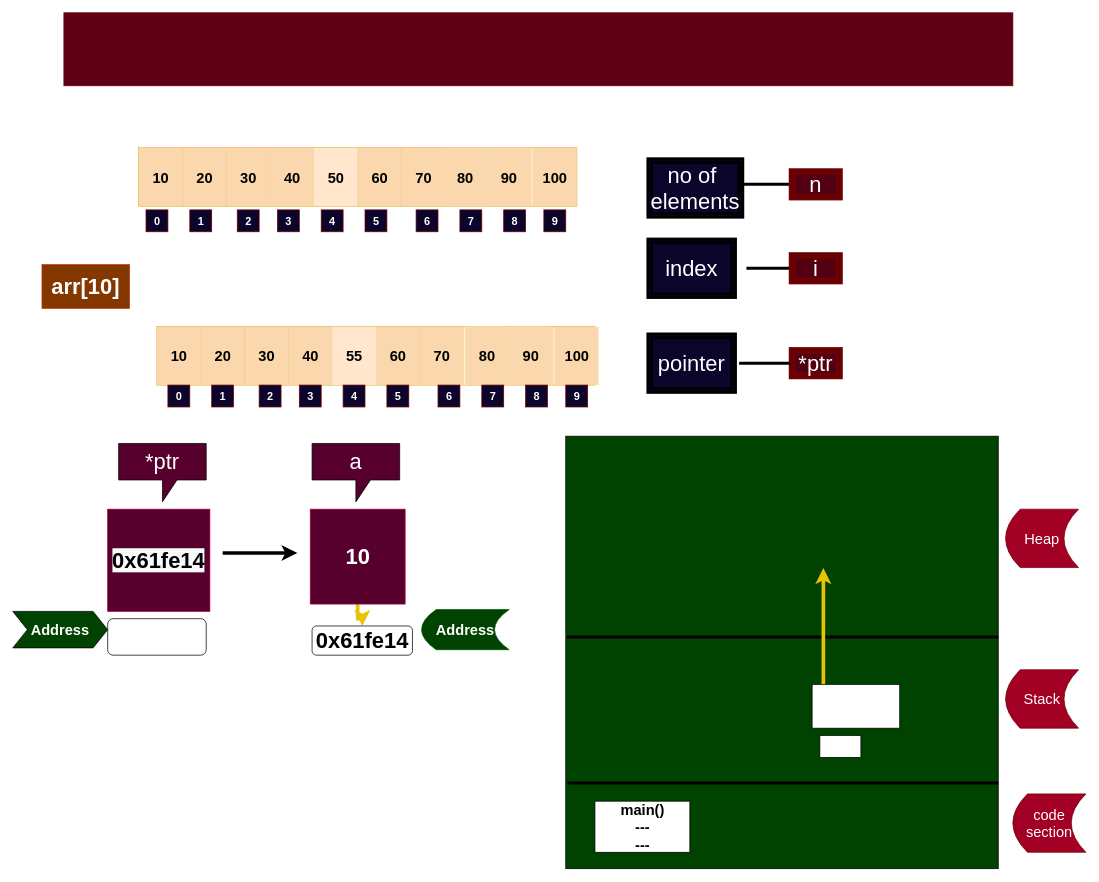
Image size: 1099x882. Some labels were removed from this diagram. Each missing label, with the centre of its shape:
"0x61fe10" goes at pixel 156 636.
"Data Structure and Algorithm | Array & Pointers | Dynamic Memory" goes at pixel 538 49.
"ptr" goes at pixel 840 746.
